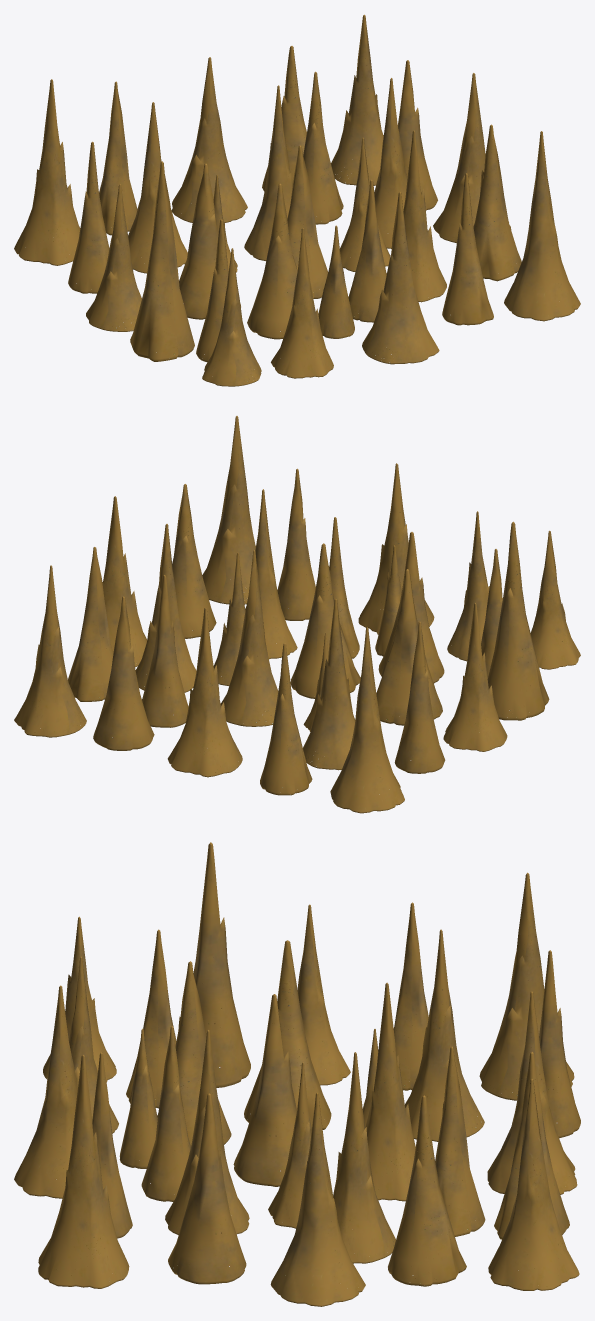
3 views of the same model, one above another, from view 1: azimuth 30°, elevation 25°; view 2: azimuth 150°, elevation 25°; view 3: azimuth 270°, elevation 25° (orthographic). The views are drawn at different scales.
Parts seen in each view (by area): view 1: SM_Caltrop_Spike_Trap_01v4_LOD0; view 2: SM_Caltrop_Spike_Trap_01v4_LOD0; view 3: SM_Caltrop_Spike_Trap_01v4_LOD0.
Part boxes in pixels (x1=…): SM_Caltrop_Spike_Trap_01v4_LOD0: x1=14, y1=14, x2=580, y2=386; SM_Caltrop_Spike_Trap_01v4_LOD0: x1=14, y1=416, x2=580, y2=813; SM_Caltrop_Spike_Trap_01v4_LOD0: x1=14, y1=842, x2=580, y2=1306.
Size of the model in its own units: 2.12 by 0.9046 by 2.
1 material, 1 textured.
